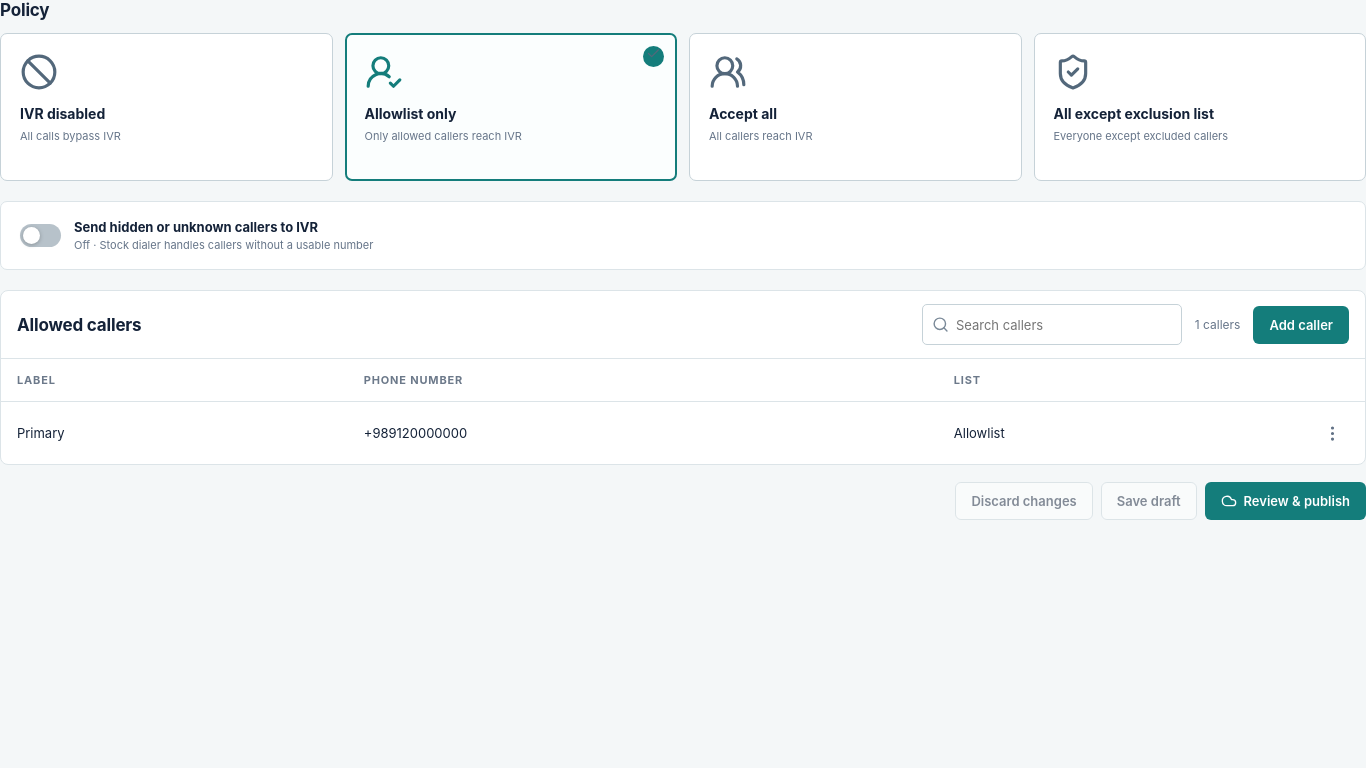
Caller Policy publishing › shows a complete no-op review and refuses a duplicate revision
The image size is (1366, 768).
Expected: the heading "Policy" is shown, [0, 0, 49, 20]
Step 1. Click the button "Review & publish" → {"x": 1285, "y": 501}, box [1204, 482, 1365, 520]
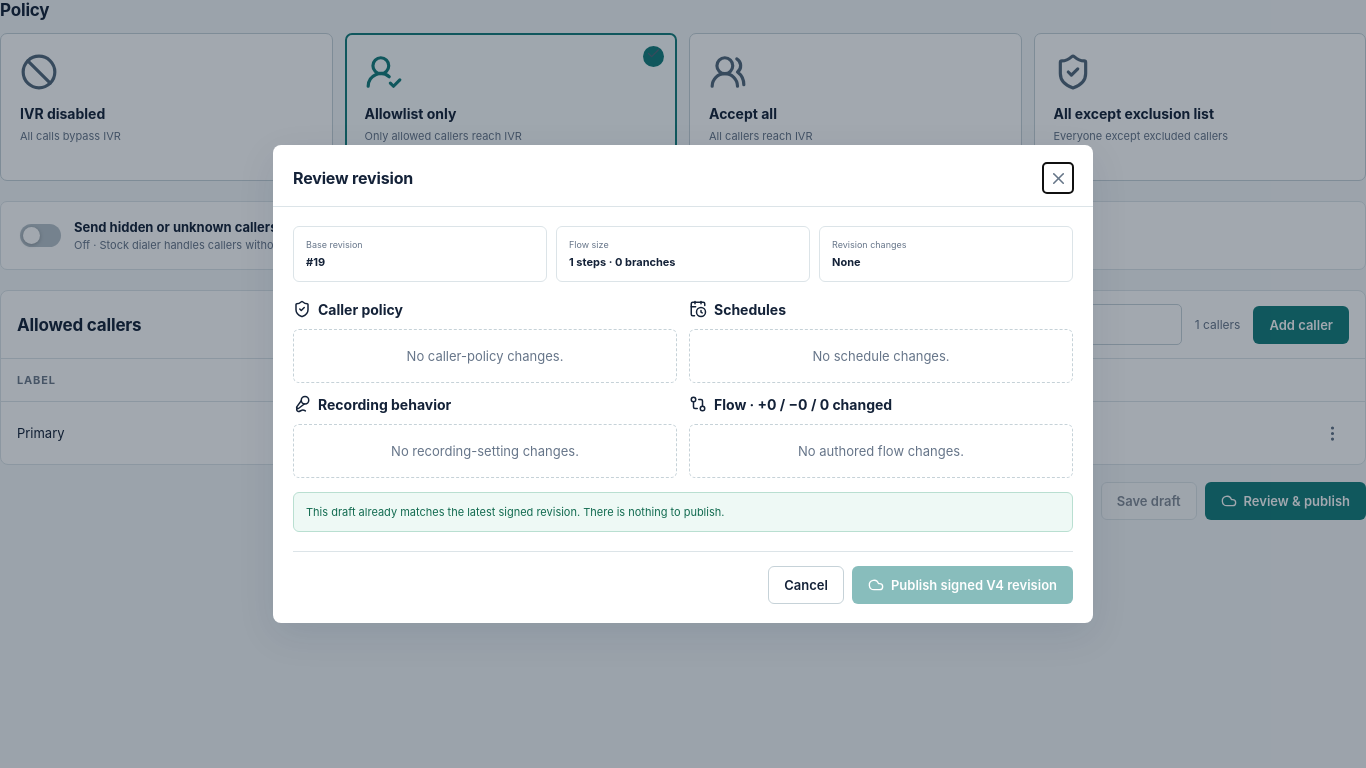
Now the text "No caller-policy changes." is shown, box [293, 329, 677, 383]
Now the text "No schedule changes." is shown, box [689, 329, 1073, 383]
Now the text "No recording-setting changes." is shown, box [293, 424, 677, 478]
